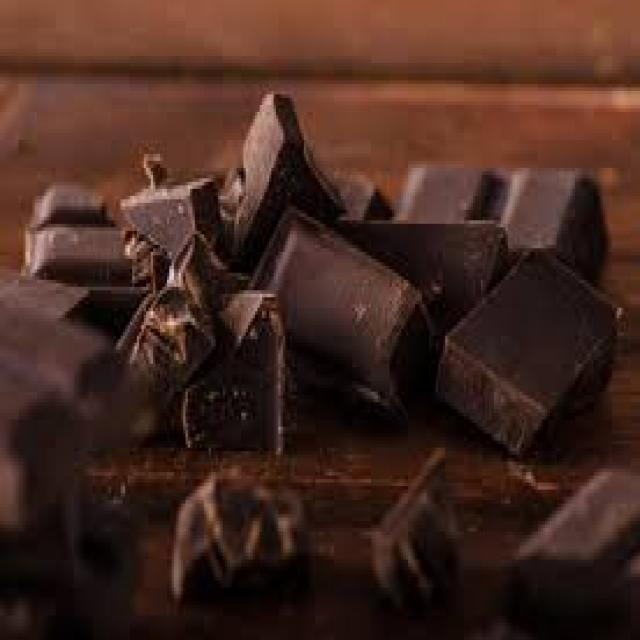chocolate: (19, 92, 640, 634)
